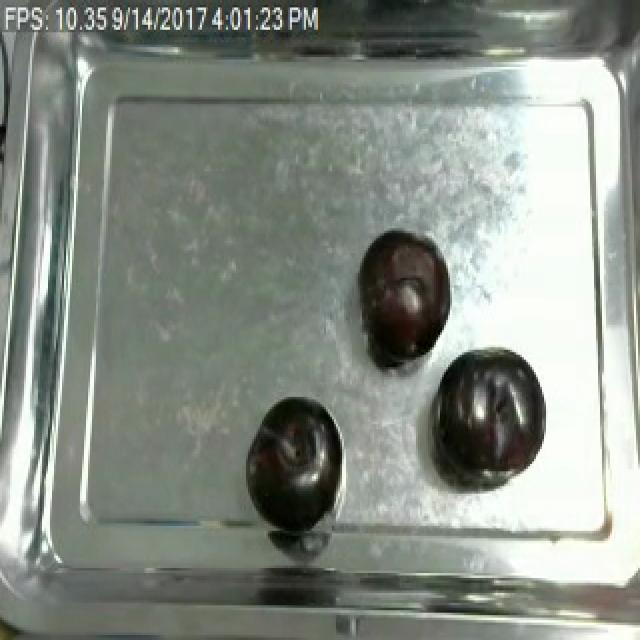Fruit: (428, 342, 552, 491), (240, 389, 346, 536), (348, 223, 456, 365)
